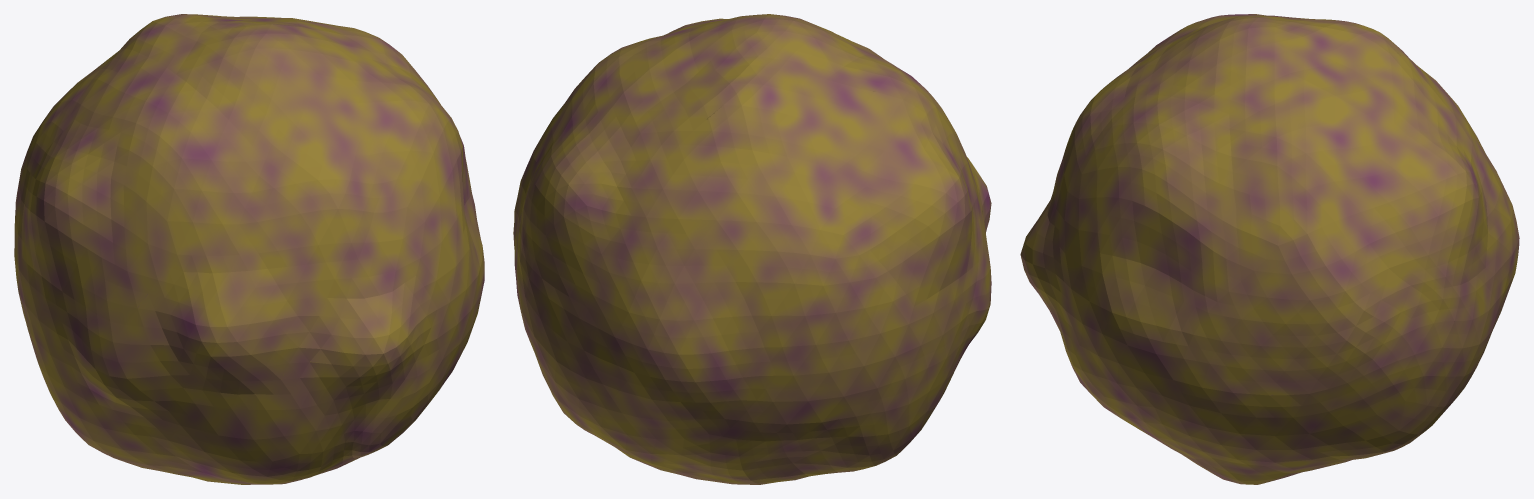
Rendered from Meadow 1.fbx.
3 renders of one model, left to right at view 1: azimuth 30°, elevation 25°; view 2: azimuth 150°, elevation 25°; view 3: azimuth 270°, elevation 25°, orthographic. The views are drawn at different scales.
Visible parts, largest first — view 1: Meadow.001; view 2: Meadow.001; view 3: Meadow.001.
Boxes of the visible parts, left/top/right/bottom form: Meadow.001: left=14, top=14, right=484, bottom=484; Meadow.001: left=513, top=14, right=991, bottom=484; Meadow.001: left=1020, top=14, right=1519, bottom=484.
Size of the model in its own units: 15238 by 15502 by 16352.
Materials: 1 (1 with a texture image).
